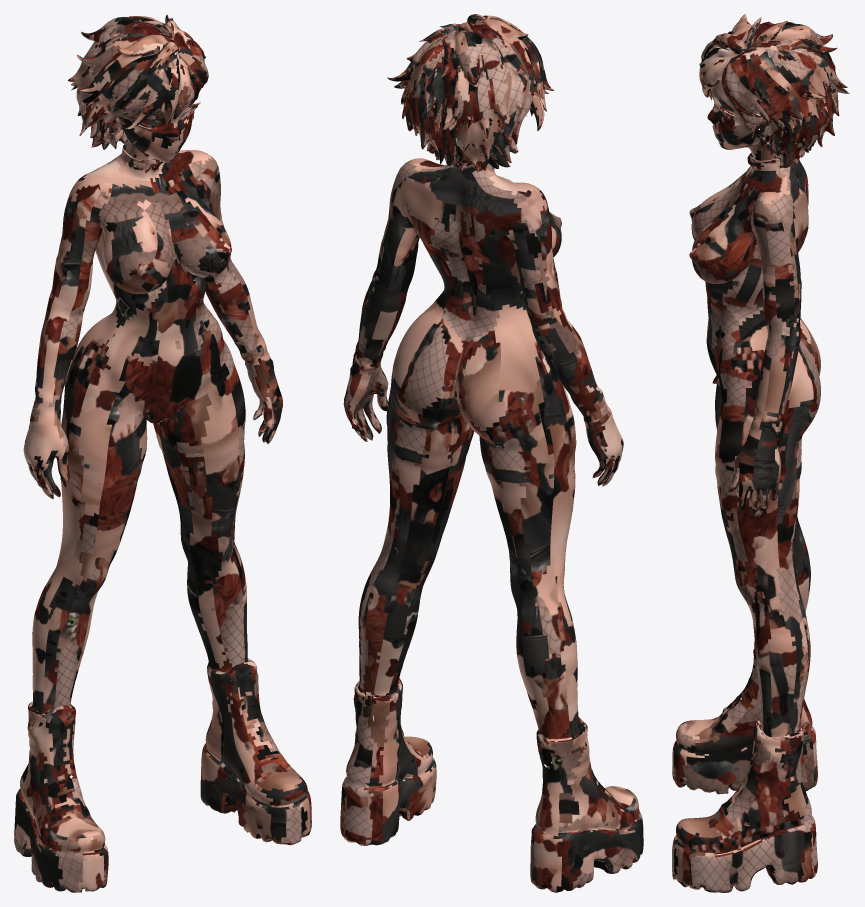
Rendered from compact.glb.
3 views of the same model, side by side, from view 1: azimuth 30°, elevation 25°; view 2: azimuth 150°, elevation 25°; view 3: azimuth 270°, elevation 25° (orthographic). The views are drawn at different scales.
Parts seen in each view (by area): view 1: tripo_node_01894985; view 2: tripo_node_01894985; view 3: tripo_node_01894985.
Part boxes in pixels (x1=…): tripo_node_01894985: x1=14, y1=14, x2=311, y2=892; tripo_node_01894985: x1=340, y1=14, x2=643, y2=892; tripo_node_01894985: x1=672, y1=14, x2=849, y2=892.
Bounding box in the file's own units: 0.3303 × 0.9773 × 0.1953.
Materials: 1 (1 with a texture image).
